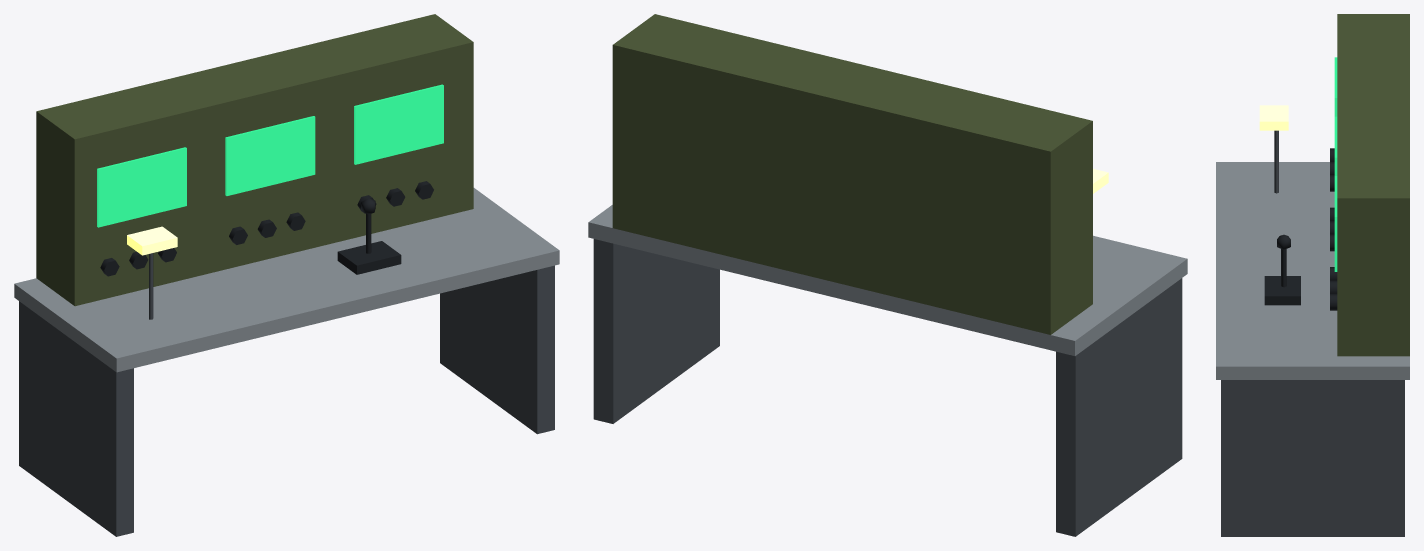
The model's file is so_radio_console.glb.
3 renders of one model, left to right at view 1: azimuth 30°, elevation 25°; view 2: azimuth 150°, elevation 25°; view 3: azimuth 270°, elevation 25°, orthographic. The views are drawn at different scales.
Visible parts, largest first — view 1: so_radio_console; view 2: so_radio_console; view 3: so_radio_console.
Part boxes in pixels (x1,y1,x2,y2): so_radio_console: (14, 14, 559, 536); so_radio_console: (588, 14, 1187, 536); so_radio_console: (1216, 14, 1409, 536).
Size of the model in its own units: 2 by 1.5 by 0.8.
